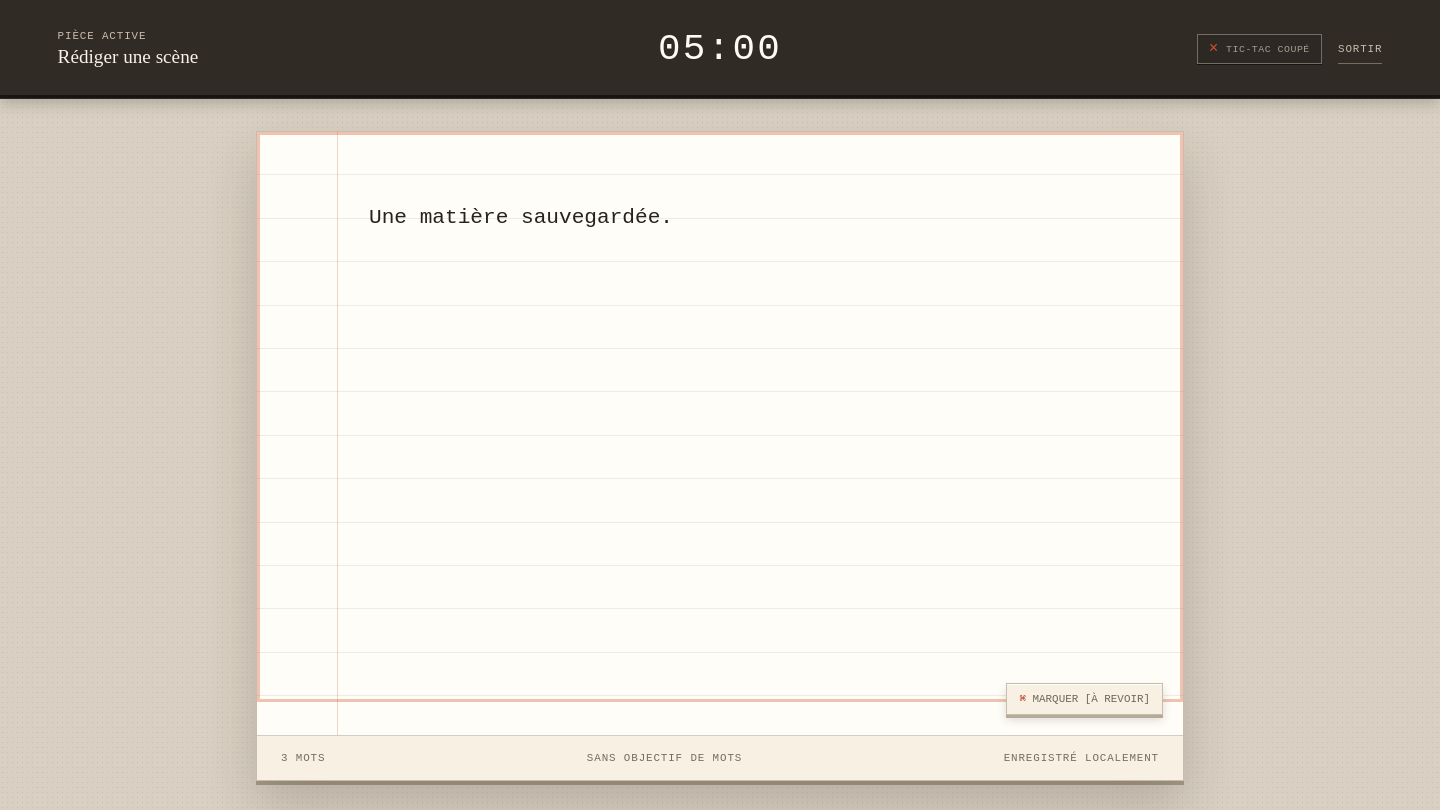
SprintView › moves focus into the exit dialog and restores it when closing
The width and height of the screenshot is (1440, 810).
Click the button "Sortir" at (1360, 49), box [1338,35,1382,64]
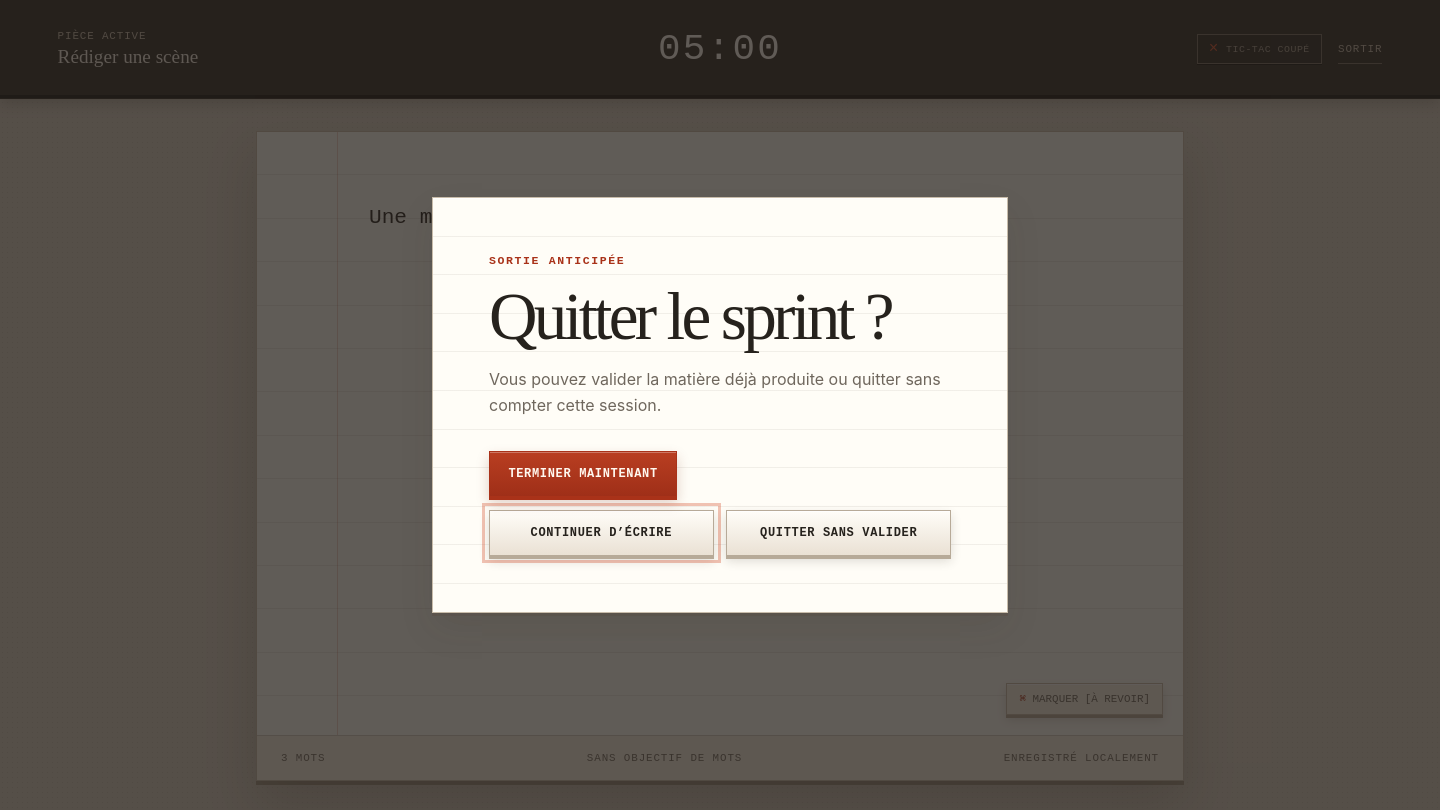
Press Escape in the dialog "Quitter le sprint", box [432,197,1008,613]
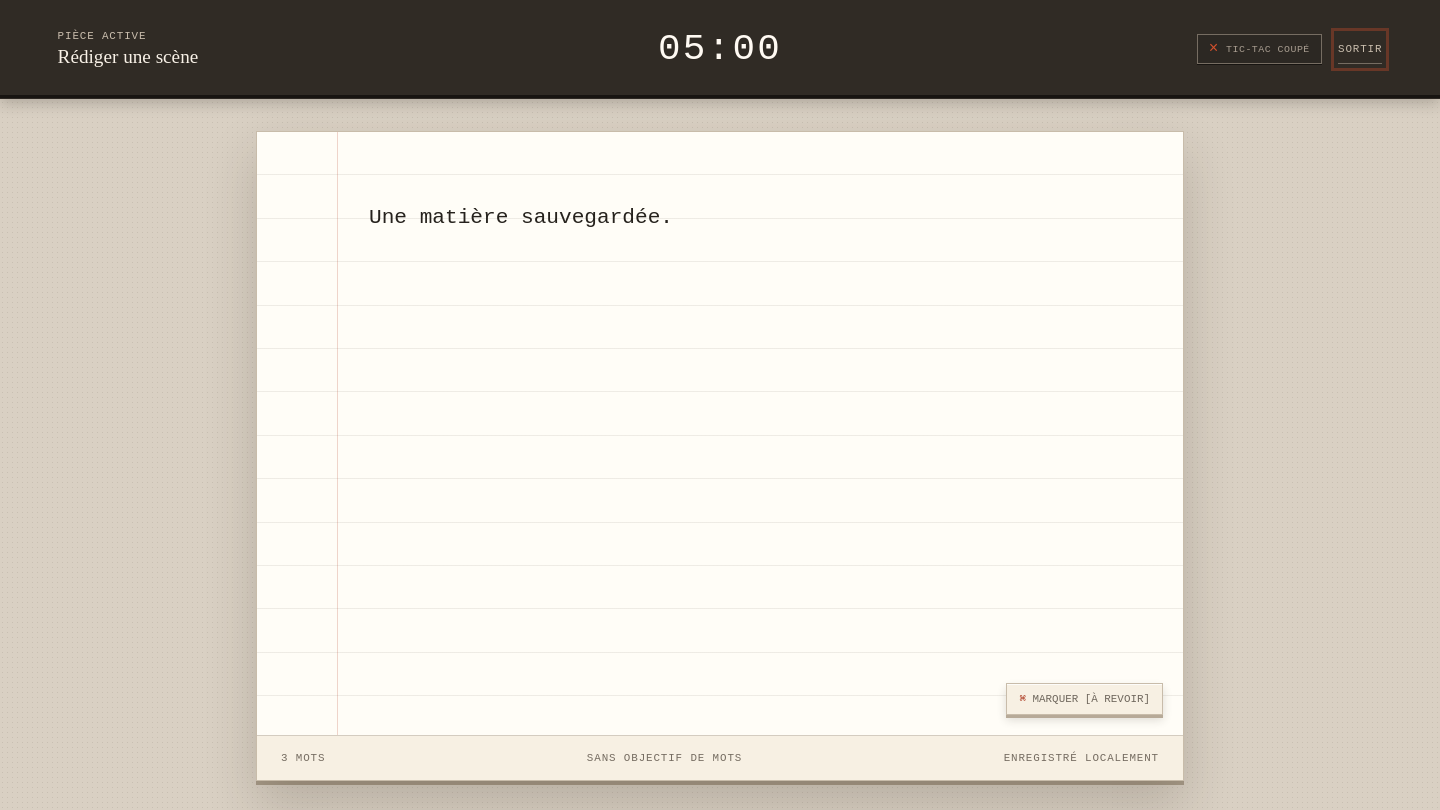
Expected: the dialog is gone
